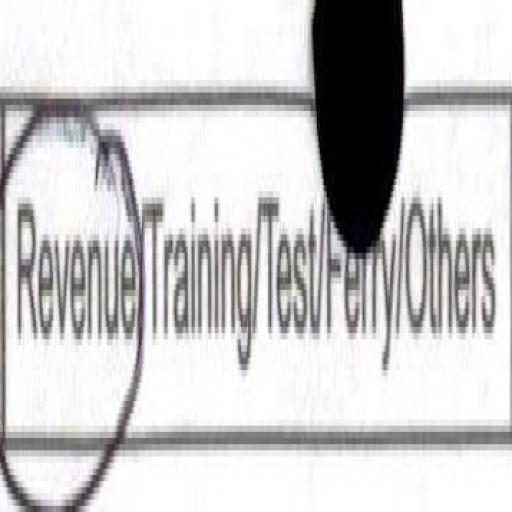check: (0, 86, 142, 512)
